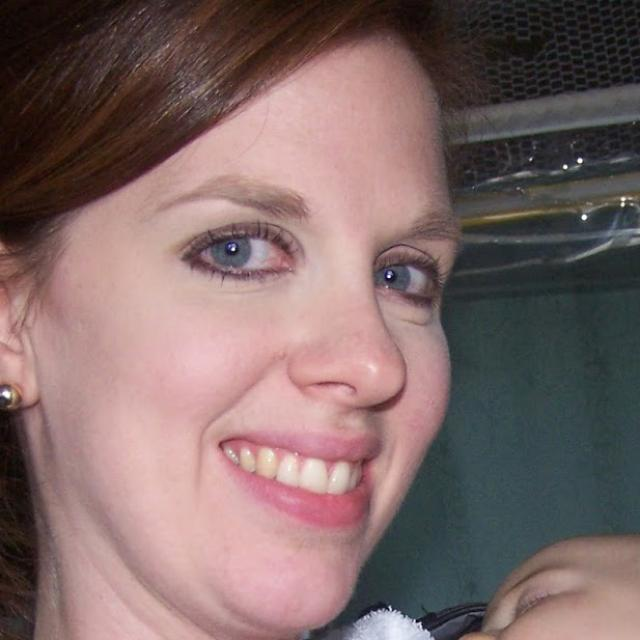Normal: (47, 35, 458, 633)
